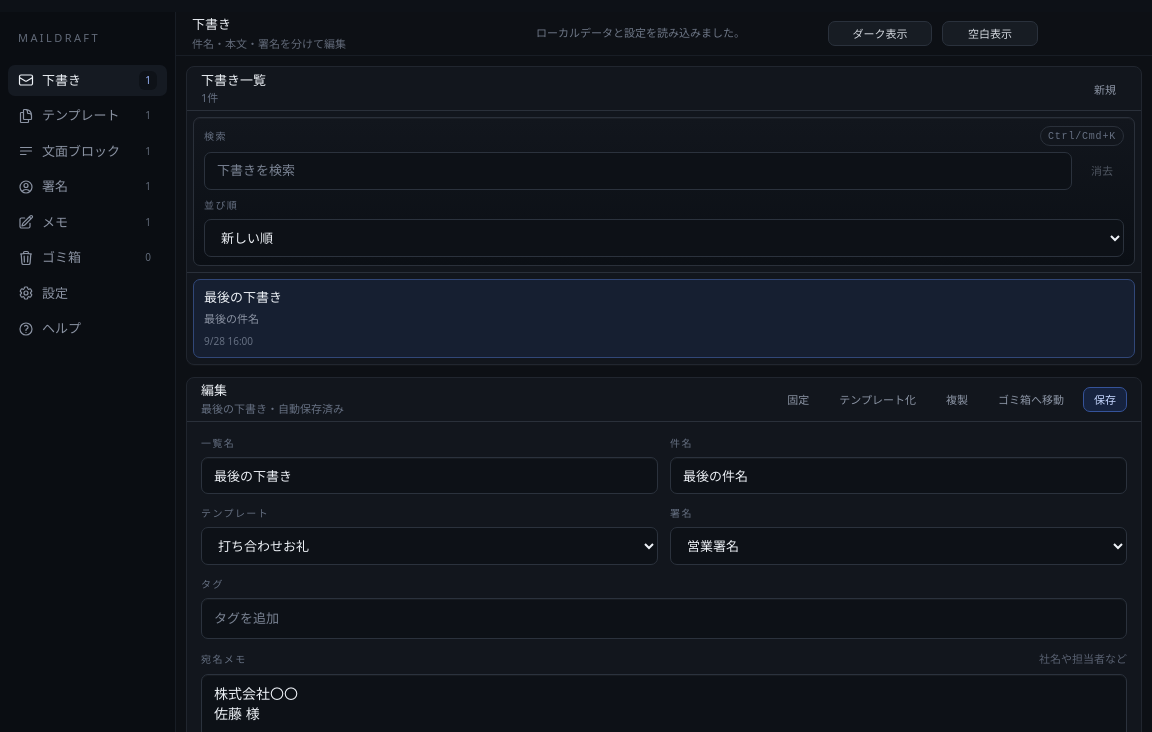
it: App runtime integration › keeps the draft list empty after deleting the last saved draft
Click the button "ゴミ箱へ移動": (1031, 399) [987,386,1075,412]
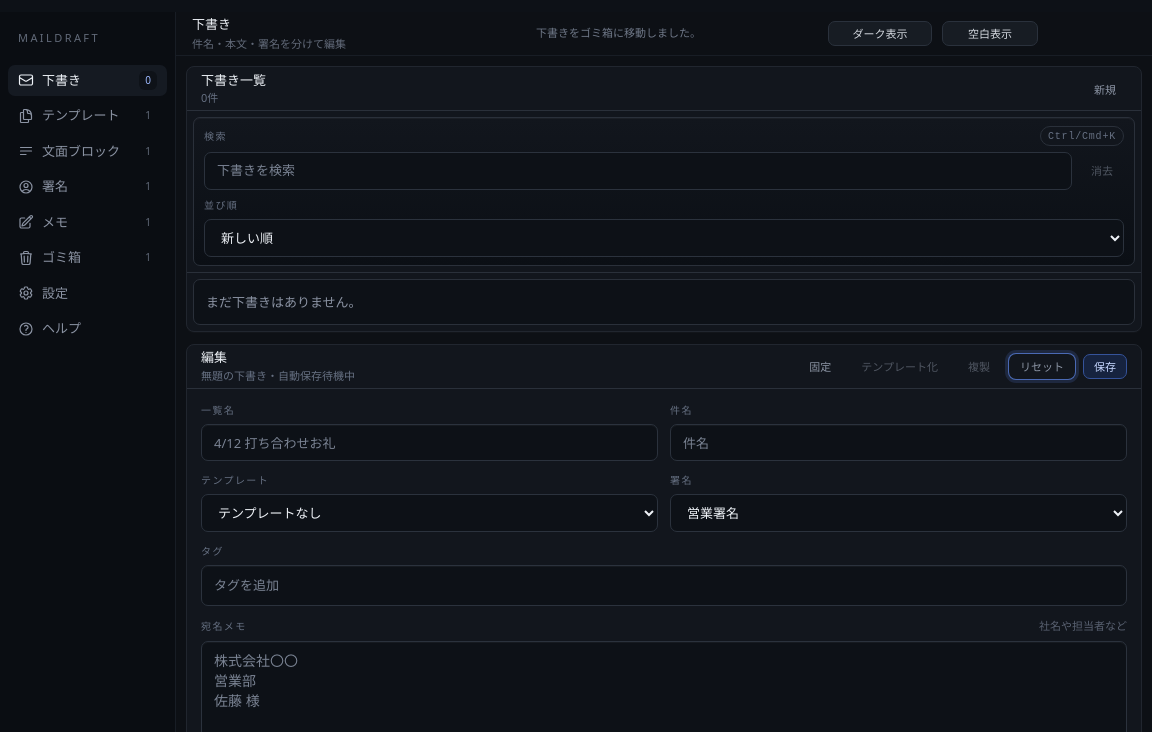
expect the text "まだ下書きはありません。" is shown: met, box [193,278,1135,324]
